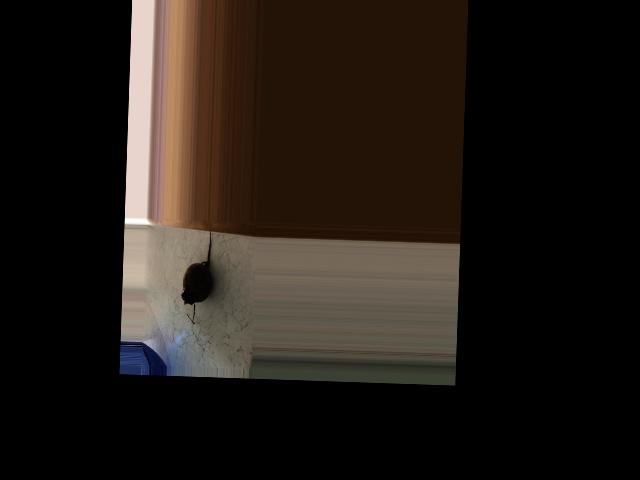beet: (181, 226, 213, 324)
